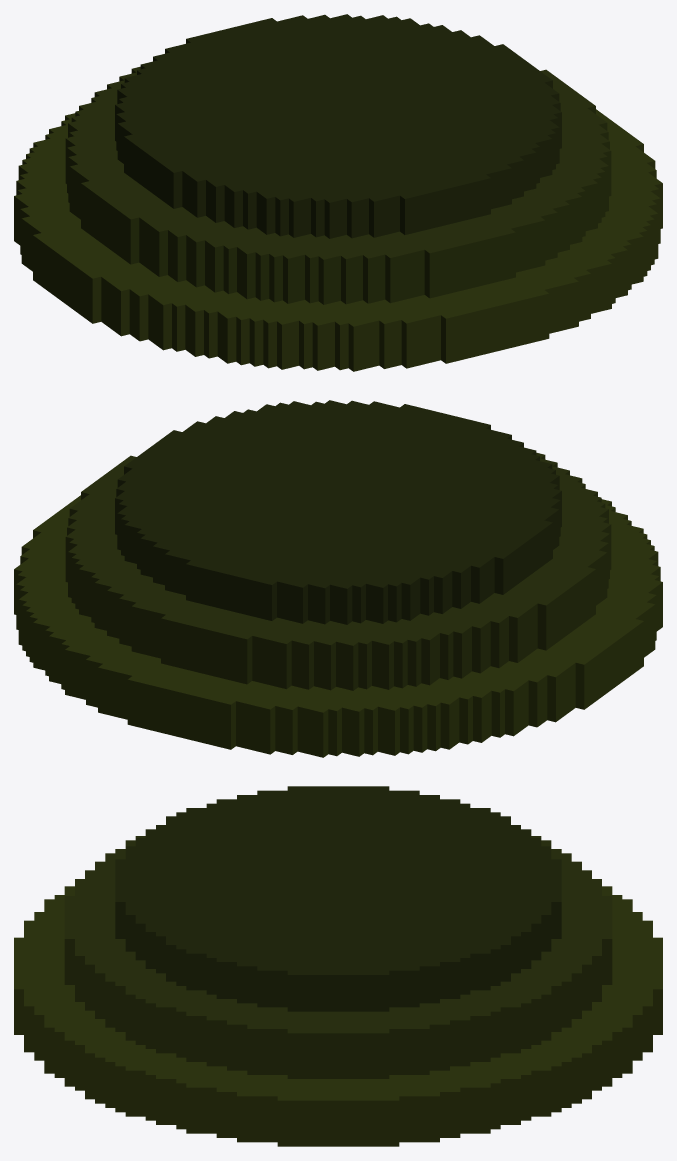
The model's file is darktree-2.obj.
The picture shows the model from 3 angles, top to bottom: view 1: azimuth 30°, elevation 25°; view 2: azimuth 150°, elevation 25°; view 3: azimuth 270°, elevation 25°; orthographic projection.
Bounding box in the file's own units: 6.4 × 1.4 × 6.4.
1 material, 1 textured.
